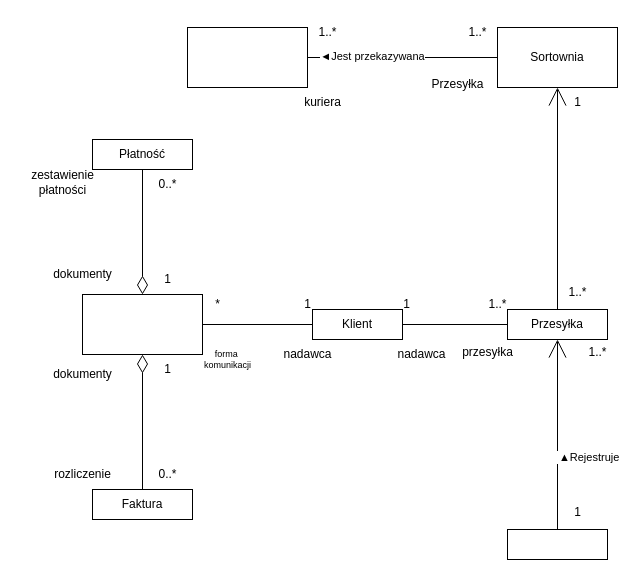
The diagram is 636 pixels wide and 577 high, and some of its shapes have lost their labels. The centre of each missing label's shape, as x and y in pixels:
"Korespondencja" belongs at (x=142, y=324).
"Kurier" belongs at (x=247, y=57).
"Pracownik" belongs at (x=557, y=544).
